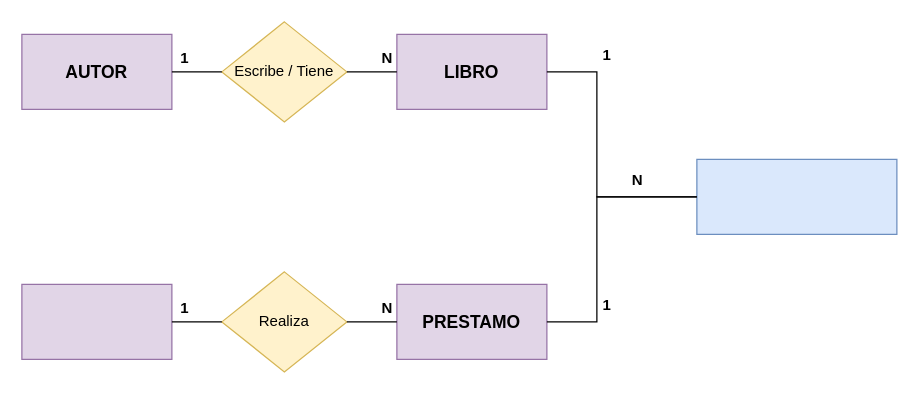
The diagram is 919 pixels wide and 394 high, and some of its shapes have lost their labels. The centre of each missing label's shape, as x and y in pixels:
DETALLE_PRESTAMO: point (796, 196)
SOCIO: point (96, 321)
